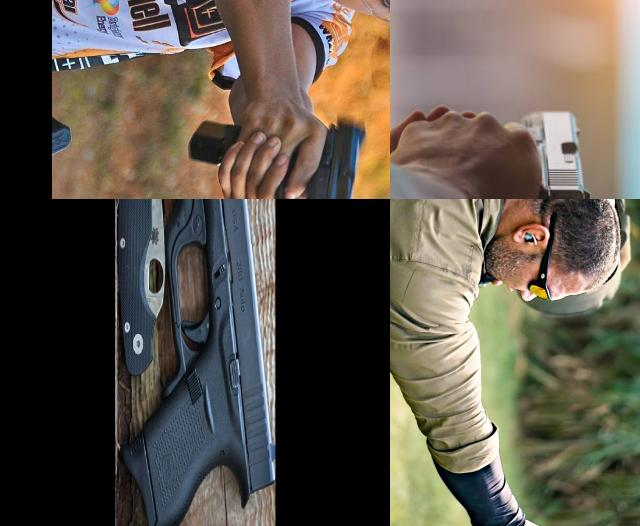handgun: (114, 199, 276, 526), (183, 112, 368, 199), (485, 106, 593, 199)
